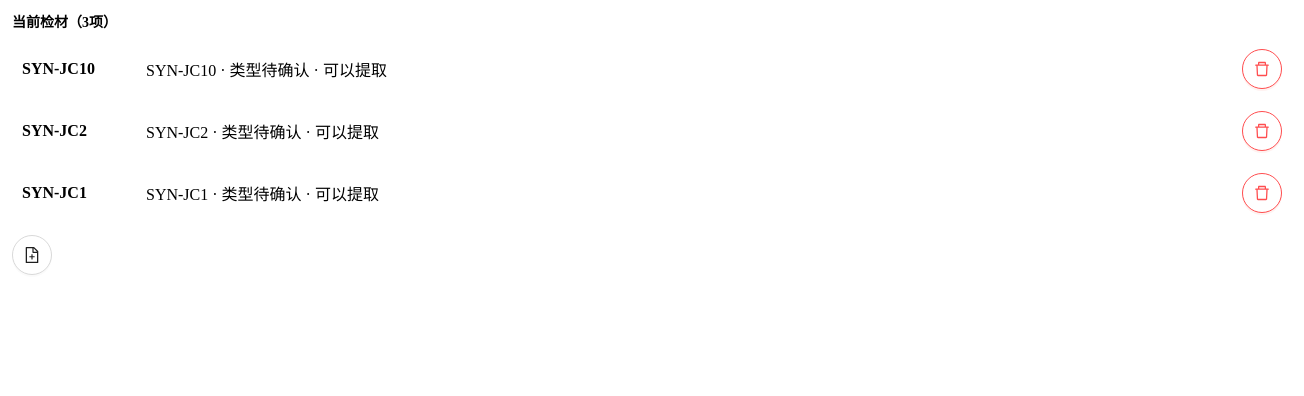
Test case: GuidedReviewView › sorts existing evidence by the report-recognition natural number rule only on explicit request
This screenshot has width=1304, height=396.
Click the button named "检材信息不完整，手工添加检材".
click(32, 255)  # box [12,235,52,275]
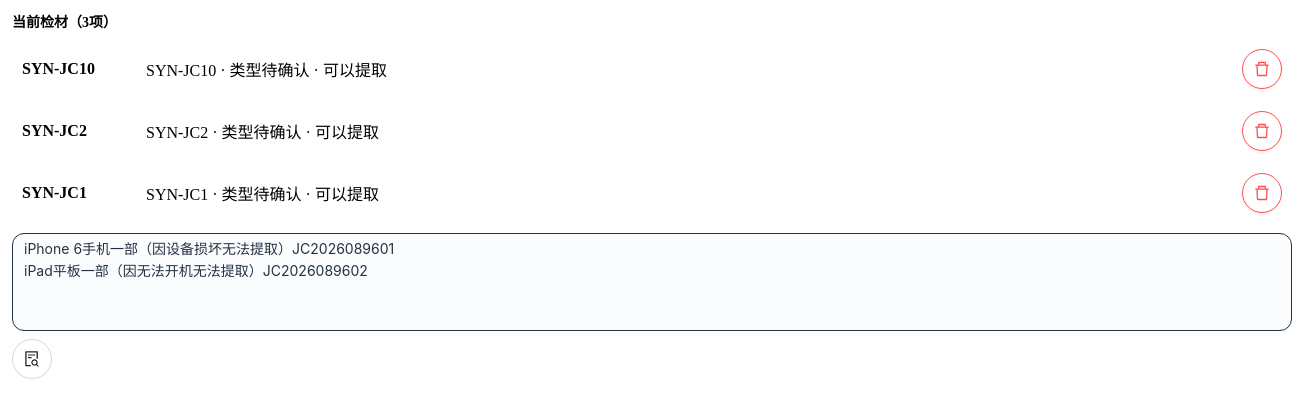
Click the button named "解析、排序并预览".
click(32, 359)  # box [12,339,52,379]
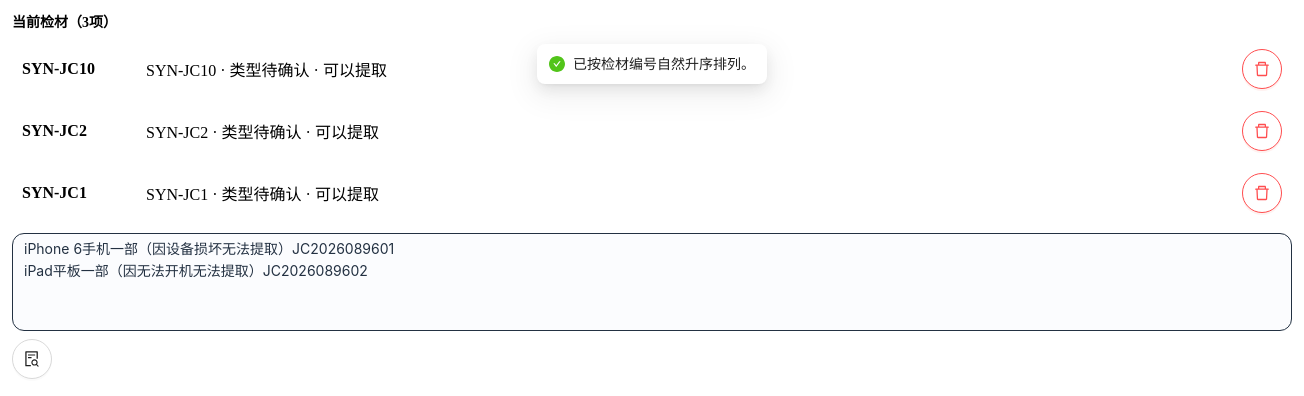
Expected: the text "已按检材编号自然升序排列。" is shown, [573,53,755,75]
